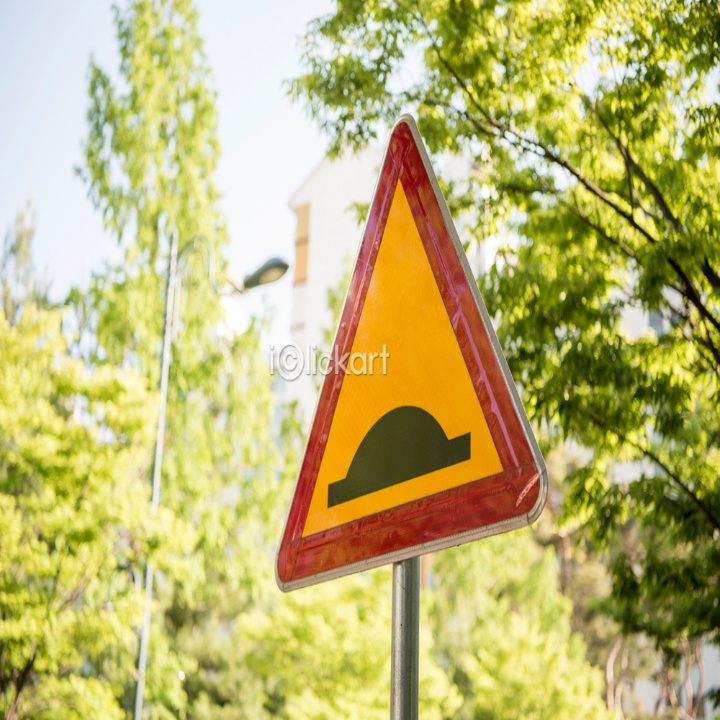bump: (258, 111, 545, 589)
